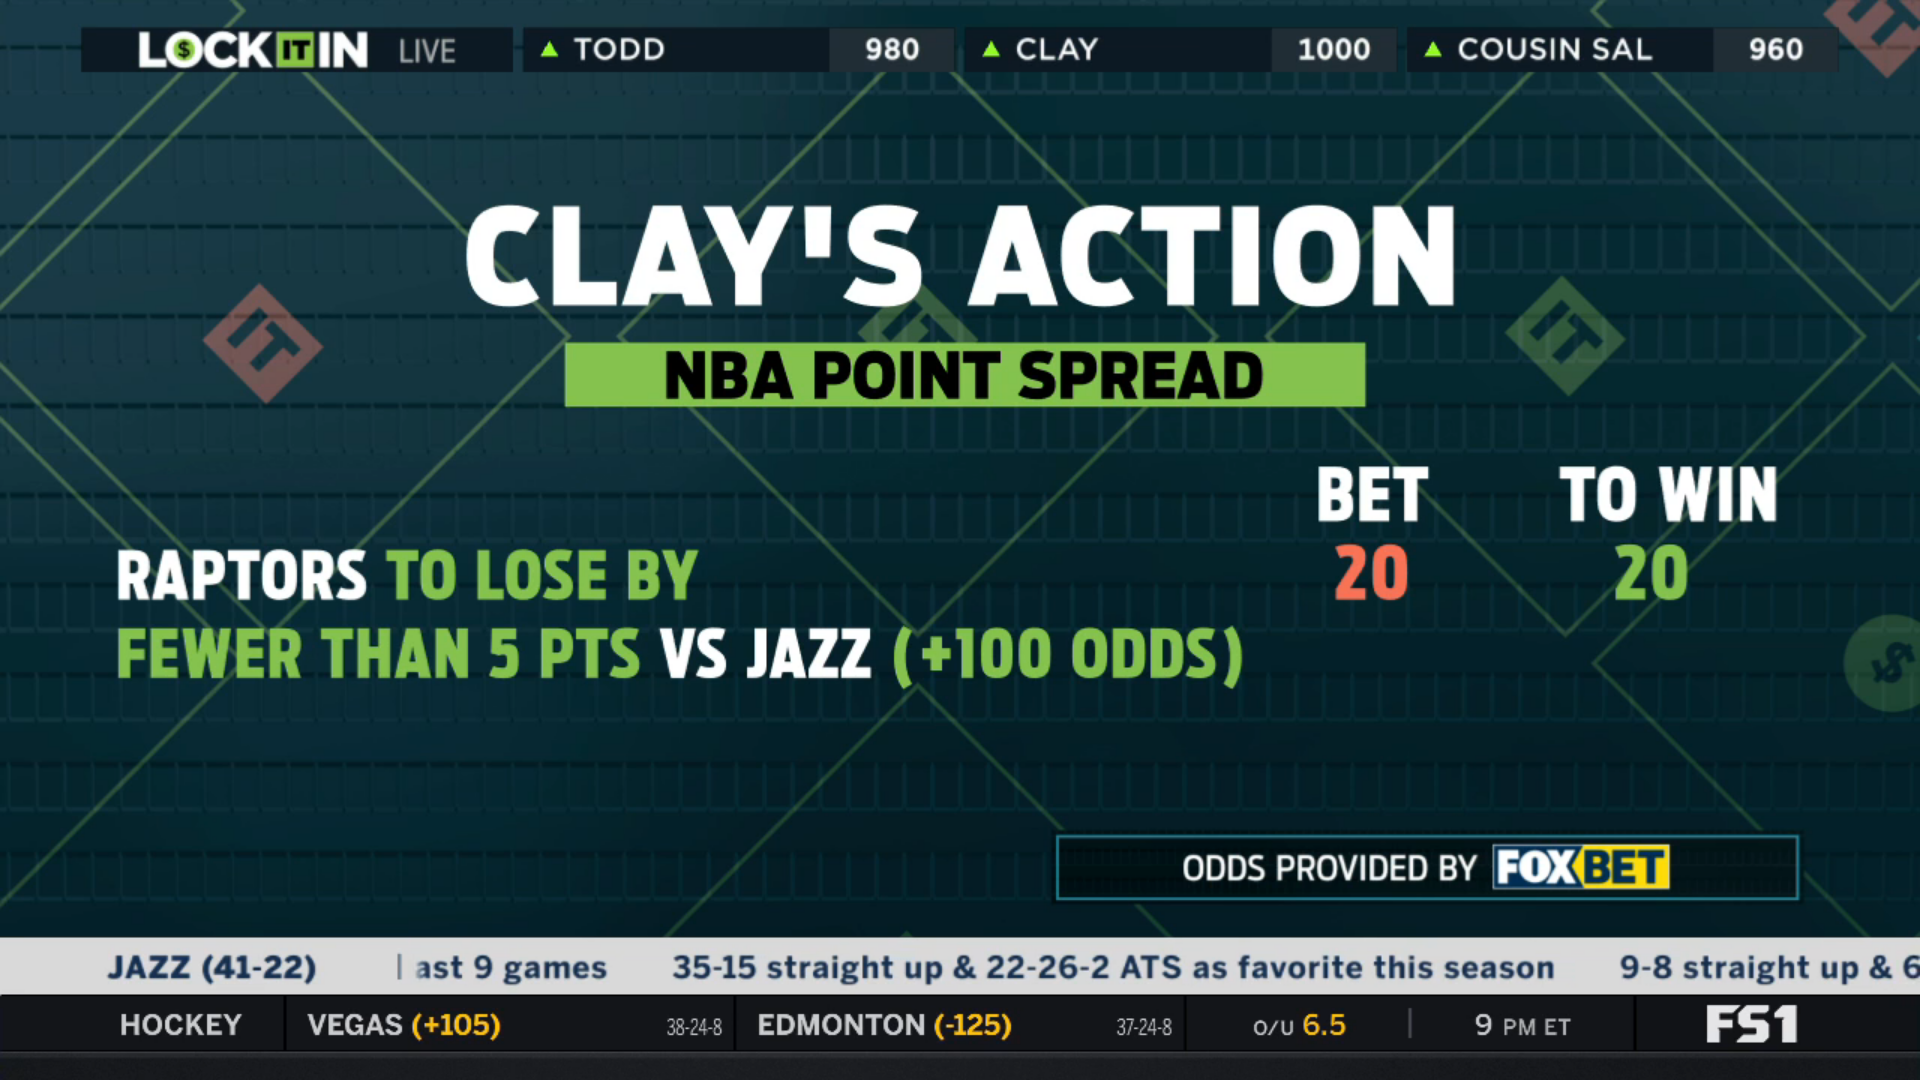Bet: (108, 539, 1253, 699), (1309, 455, 1437, 616)
Subtitle: (559, 334, 1373, 411)
Title: (458, 193, 1468, 320)
To Win: (1551, 454, 1788, 613)
Top Bar: (71, 17, 1847, 80)
